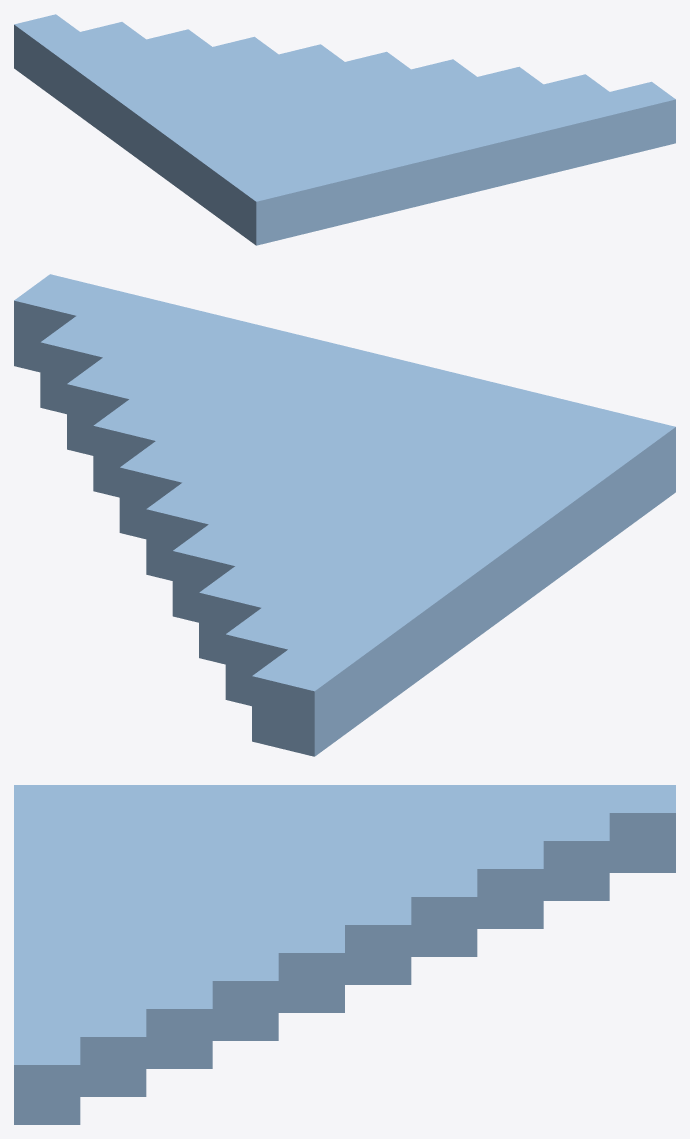
Rendered from grass_cornor_big.obj.
3 renders of one model, top to bottom at view 1: azimuth 30°, elevation 25°; view 2: azimuth 150°, elevation 25°; view 3: azimuth 270°, elevation 25°, orthographic. The views are drawn at different scales.
Bounding box in the file's own units: 1 × 0.1 × 1.
Materials: 1 (1 with a texture image).
